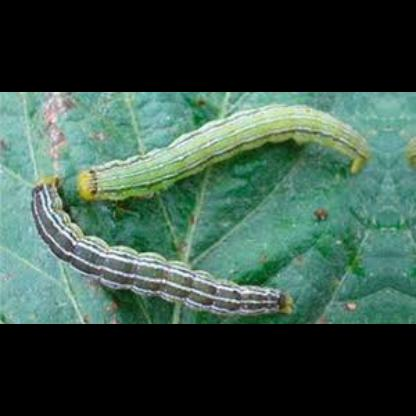oruga: (24, 180, 294, 318), (77, 101, 376, 207)
